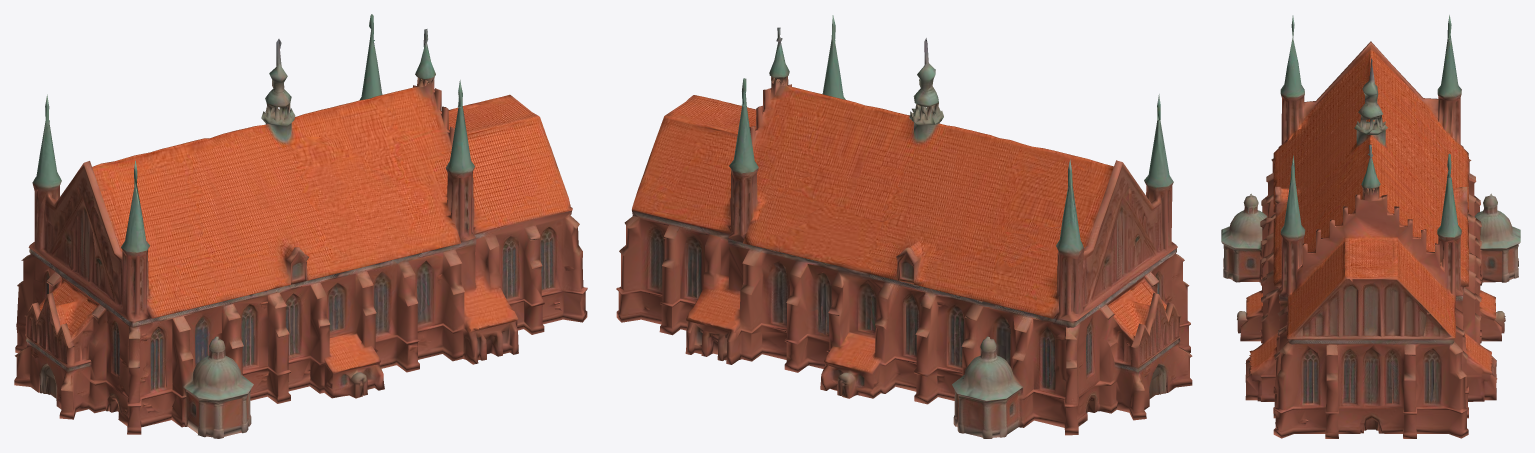
The model's file is frombork_cathedral.glb.
The picture shows the model from 3 angles, left to right: view 1: azimuth 30°, elevation 25°; view 2: azimuth 150°, elevation 25°; view 3: azimuth 270°, elevation 25°; orthographic projection. The views are drawn at different scales.
Parts seen in each view (by area): view 1: tripo_node_d1f7bd1f-1149-46ee-ab3e-10f74671735b; view 2: tripo_node_d1f7bd1f-1149-46ee-ab3e-10f74671735b; view 3: tripo_node_d1f7bd1f-1149-46ee-ab3e-10f74671735b.
Boxes of the visible parts, <box> form: tripo_node_d1f7bd1f-1149-46ee-ab3e-10f74671735b: <box>14,14,587,438</box>; tripo_node_d1f7bd1f-1149-46ee-ab3e-10f74671735b: <box>616,15,1192,438</box>; tripo_node_d1f7bd1f-1149-46ee-ab3e-10f74671735b: <box>1221,15,1520,438</box>.
Size of the model in its own units: 0.9806 by 0.5732 by 0.5738.
1 material, 1 textured.
